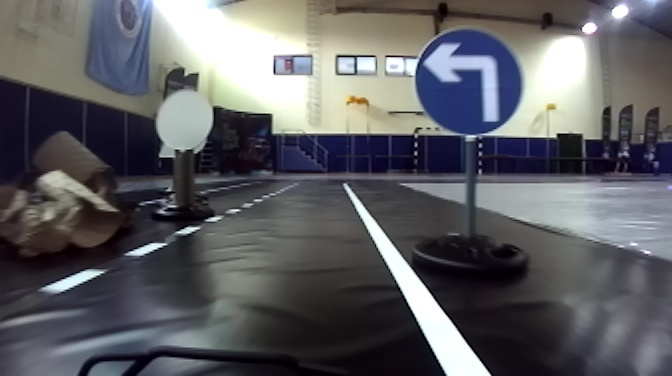sola_donus: (412, 25, 525, 139)
